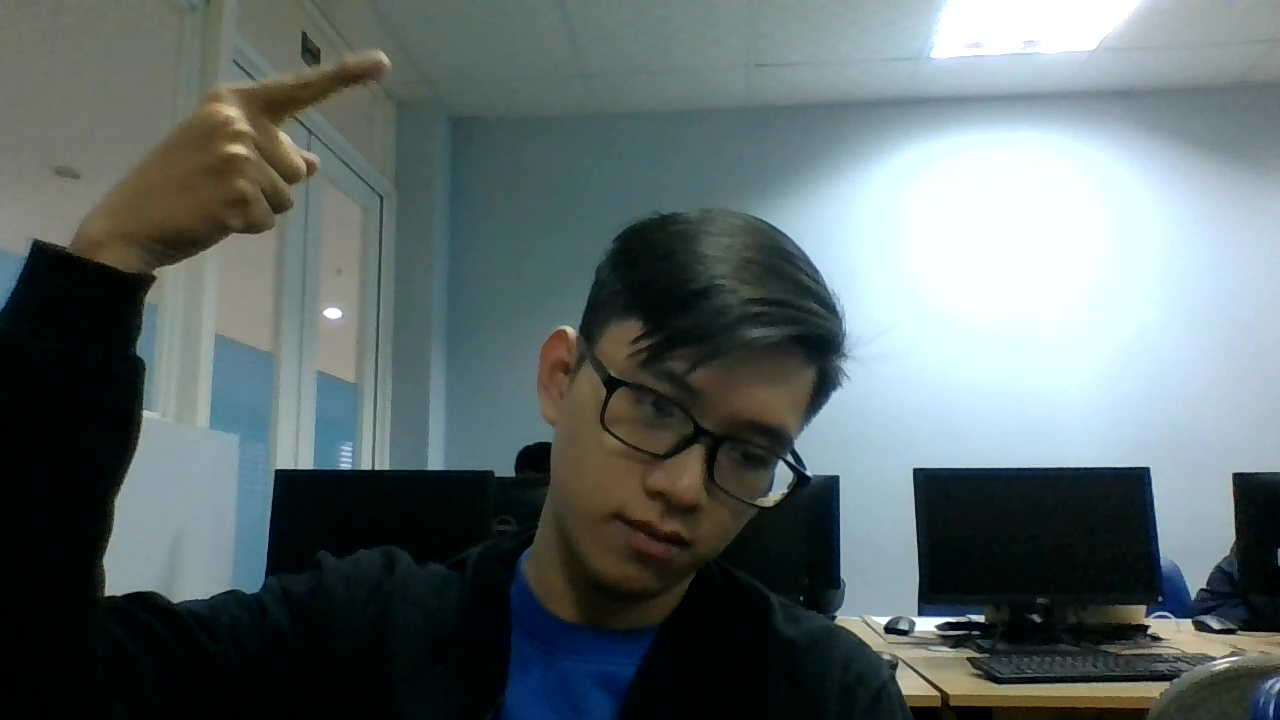left: (133, 40, 398, 267)
